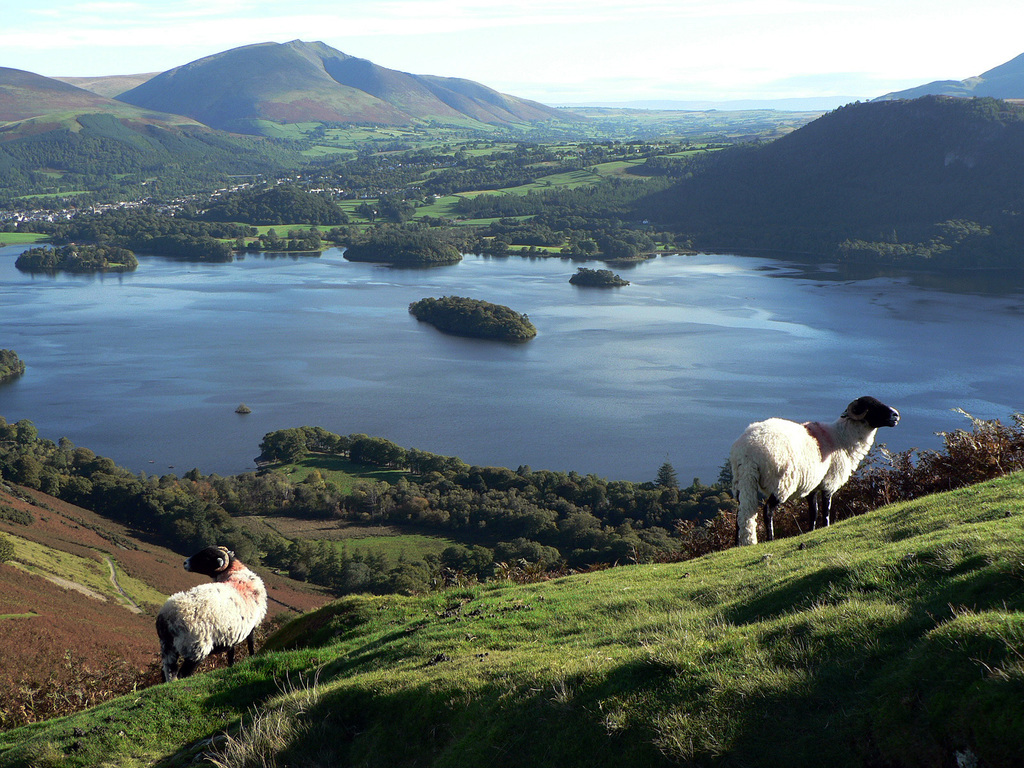sheep: (728, 395, 899, 546)
